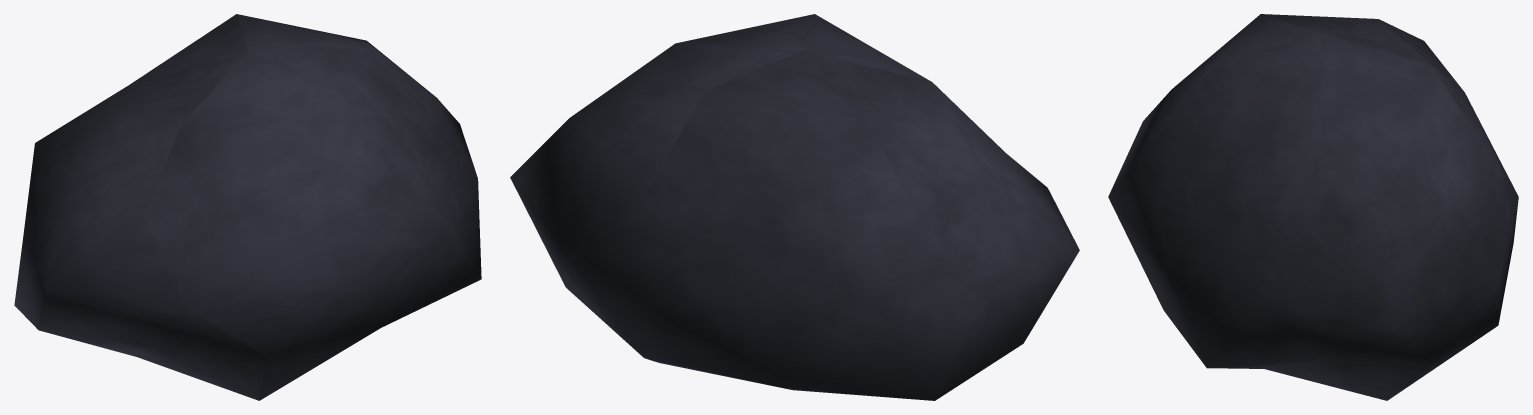
The model's file is prop_basalt_1.glb.
3 views of the same model, side by side, from view 1: azimuth 30°, elevation 25°; view 2: azimuth 150°, elevation 25°; view 3: azimuth 270°, elevation 25° (orthographic). The views are drawn at different scales.
Parts seen in each view (by area): view 1: Basalt; view 2: Basalt; view 3: Basalt.
Part boxes in pixels (<box>): Basalt: <box>14,14,481,400</box>; Basalt: <box>510,14,1079,400</box>; Basalt: <box>1108,14,1518,400</box>.
Bounding box in the file's own units: 3.09 × 2 × 2.2.
Materials: 1 (1 with a texture image).
